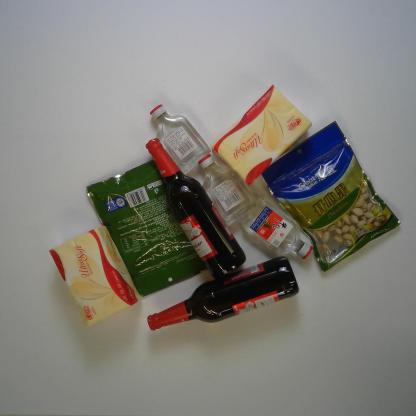Alcohol: (144, 138, 248, 282), (146, 255, 302, 334), (240, 192, 314, 261), (196, 151, 258, 227), (150, 102, 211, 178)
Dried Fruit: (261, 118, 405, 274), (85, 158, 209, 301)
Tissue: (212, 82, 314, 189), (46, 223, 142, 331)
